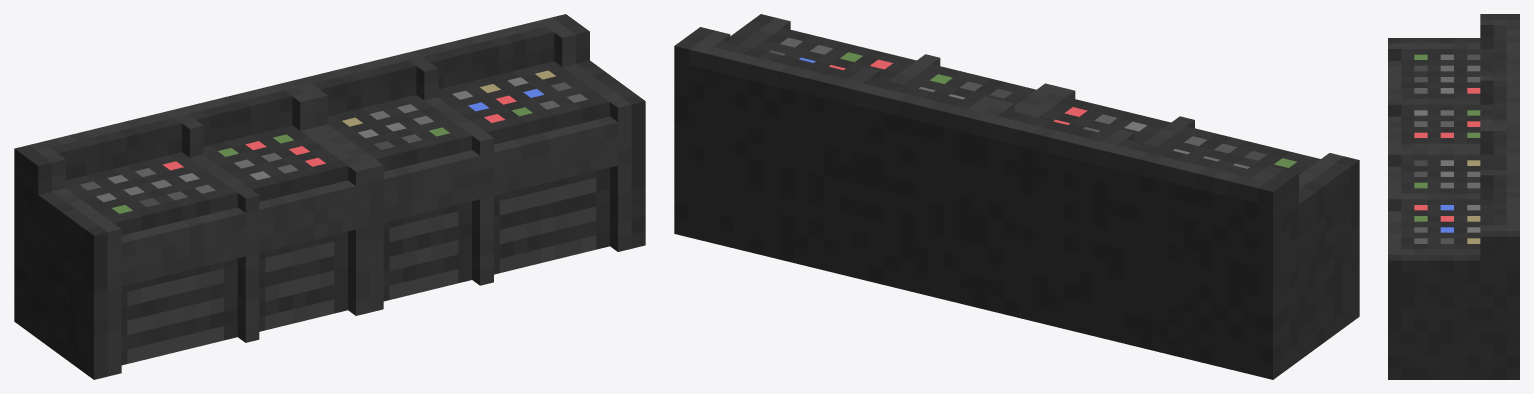
Rendered from 30-Servidores-2.obj.
The picture shows the model from 3 angles, left to right: view 1: azimuth 30°, elevation 25°; view 2: azimuth 150°, elevation 25°; view 3: azimuth 270°, elevation 25°; orthographic projection. The views are drawn at different scales.
Bounding box in the file's own units: 4 × 1.2 × 1.
1 material, 1 textured.
